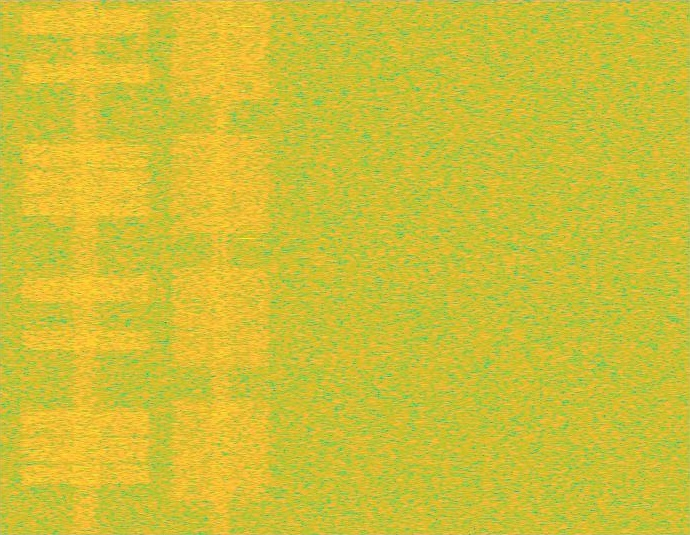5G: (169, 0, 272, 534)
DSSS: (70, 0, 101, 534), (209, 0, 232, 534)
LTE: (17, 0, 155, 534)
Radar: (240, 0, 254, 534)
